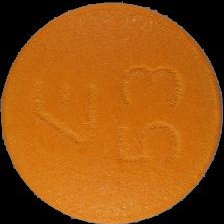60429-159: (0, 0, 224, 224)
